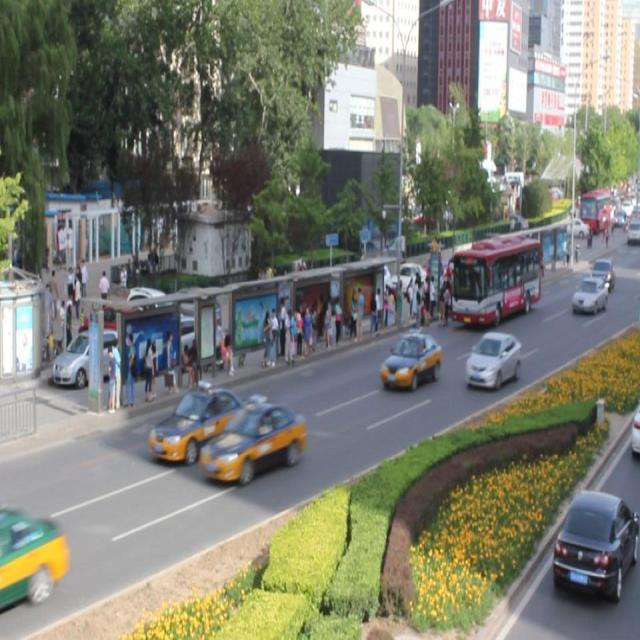car: (199, 400, 306, 481), (148, 384, 258, 460), (1, 507, 67, 607), (379, 330, 441, 388), (463, 330, 521, 388), (570, 276, 608, 313), (587, 258, 613, 290)
van: (447, 232, 538, 326)
